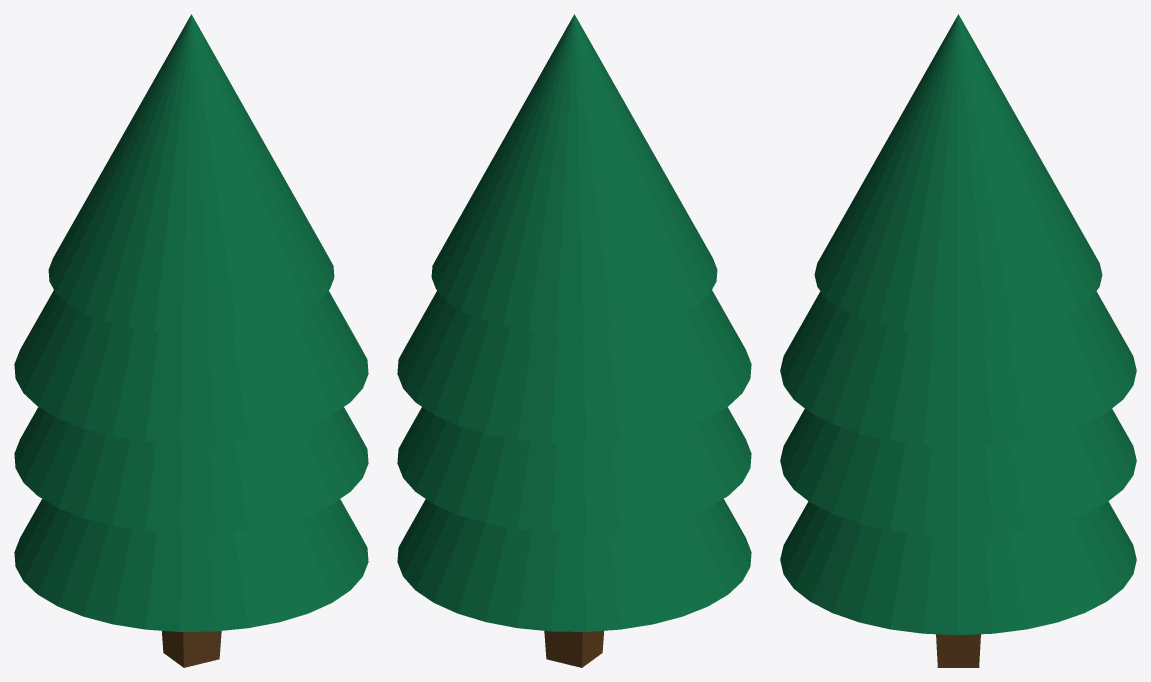
The model's file is pineTree.glb.
3 views of the same model, side by side, from view 1: azimuth 30°, elevation 25°; view 2: azimuth 150°, elevation 25°; view 3: azimuth 270°, elevation 25° (orthographic).
Visible parts, largest first — view 1: Cube; view 2: Cube; view 3: Cube.
Part boxes in pixels (x1,y1,x2,y2): Cube: (14,14,368,667); Cube: (397,14,751,667); Cube: (780,14,1136,667).
Size of the model in its own units: 8.05 by 16.07 by 8.05.
